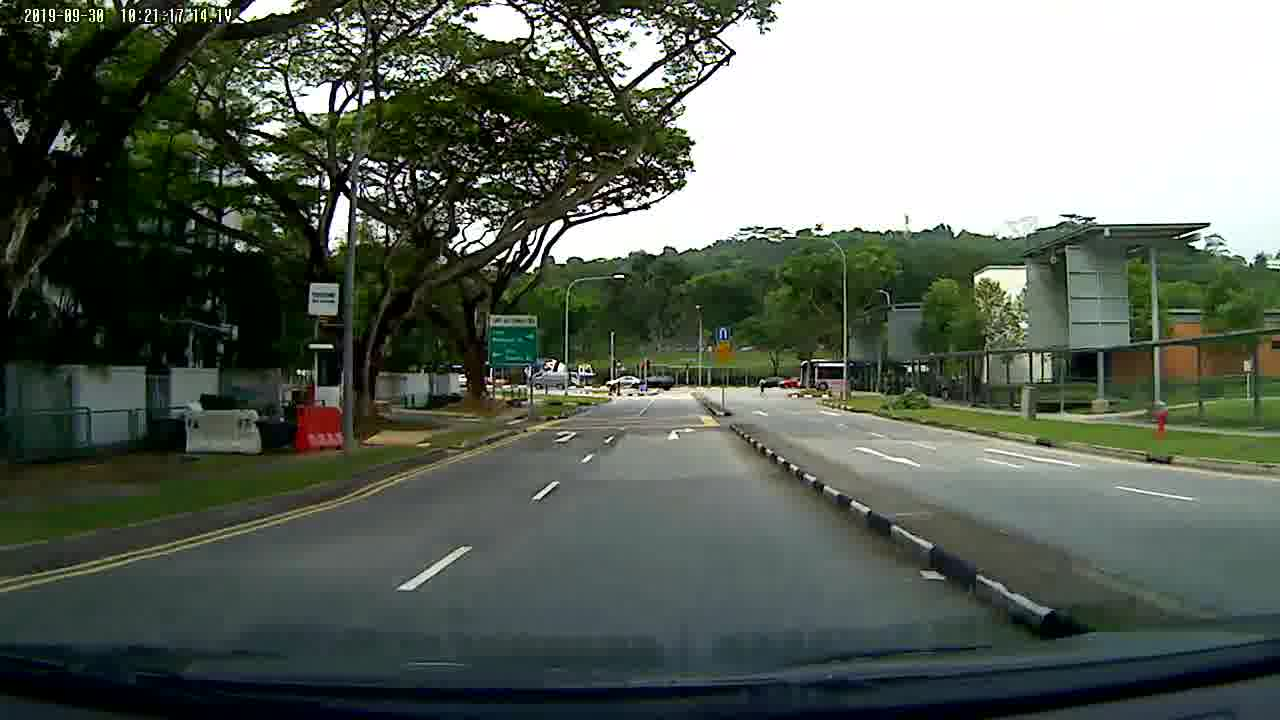bus: (796, 357, 842, 391)
car: (603, 375, 643, 390)
